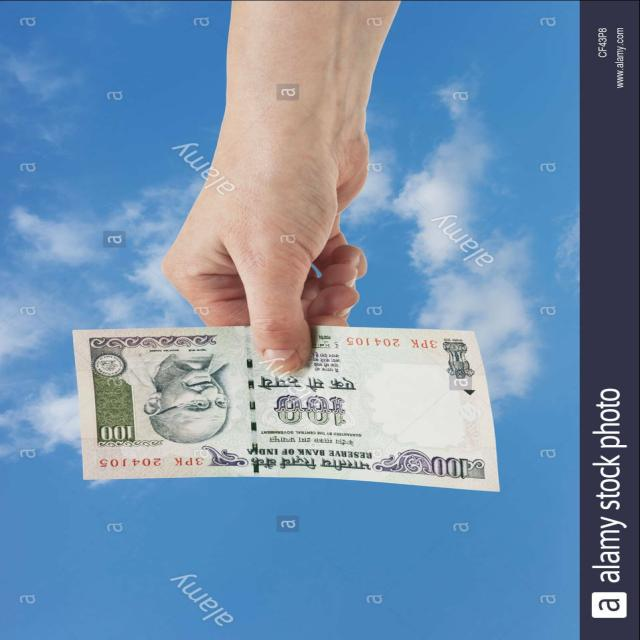100IndianRupees: (70, 331, 506, 489)
